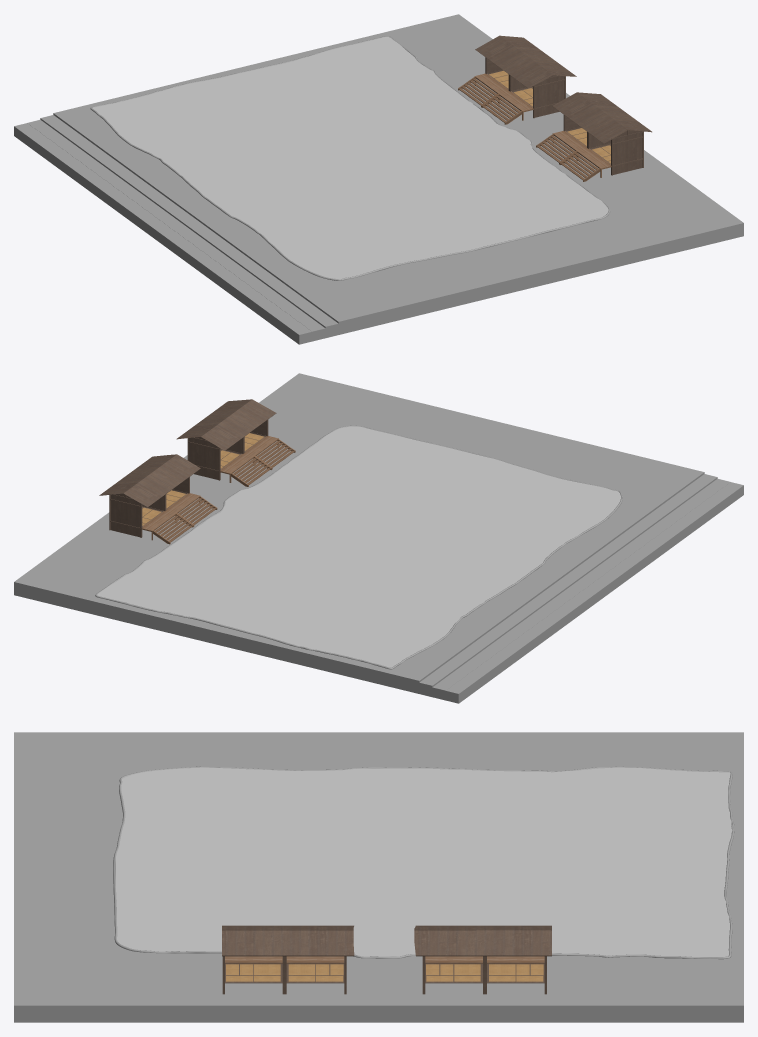
File: FullGarden.fbx
The picture shows the model from 3 angles, top to bottom: view 1: azimuth 30°, elevation 25°; view 2: azimuth 150°, elevation 25°; view 3: azimuth 270°, elevation 25°; orthographic projection. The views are drawn at different scales.
Visible parts, largest first — view 1: Object004, Box006, Object001, RoofTop, Line003; view 2: Object004, Box006, Object001, RoofTop, Line003; view 3: Object004, Box006, RoofTop, Object001, Line003.
Boxes of the visible parts, left/top/right/bottom form: Object004: left=92, top=37, right=608, bottom=279; Box006: left=14, top=14, right=743, bottom=344; Object001: left=458, top=57, right=643, bottom=181; RoofTop: left=475, top=35, right=651, bottom=143; Line003: left=90, top=36, right=610, bottom=280; Object004: left=97, top=426, right=620, bottom=667; Box006: left=14, top=373, right=743, bottom=703; Object001: left=109, top=419, right=295, bottom=544; RoofTop: left=99, top=399, right=276, bottom=507; Line003: left=95, top=425, right=622, bottom=669; Object004: left=116, top=767, right=732, bottom=956; Box006: left=14, top=732, right=743, bottom=1022; RoofTop: left=222, top=925, right=551, bottom=956; Object001: left=222, top=947, right=546, bottom=994; Line003: left=113, top=766, right=734, bottom=959.
Bounding box in the file's own units: 4970 × 590 × 5519.
